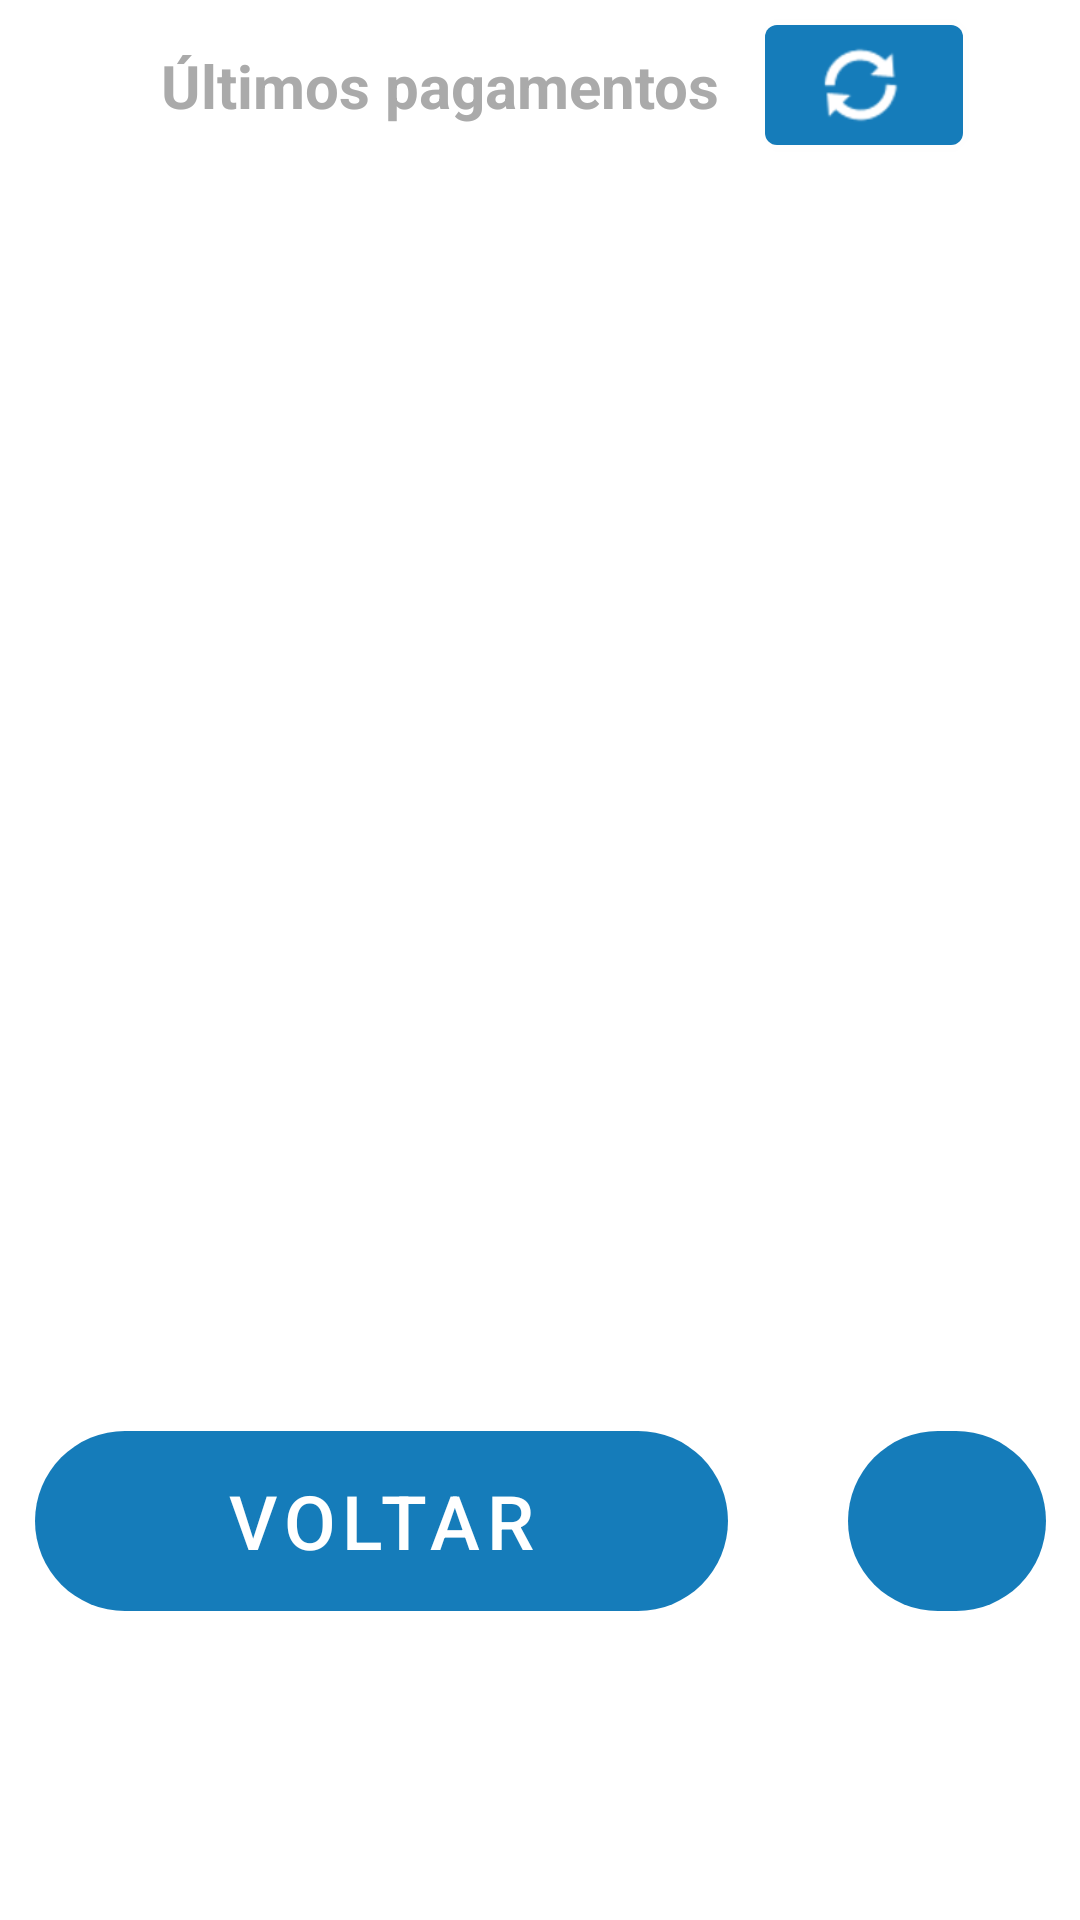

Named icons in this screenshot (1080w x 1920h) and their centers, point (x, y):
popup sync: point (864, 85)
